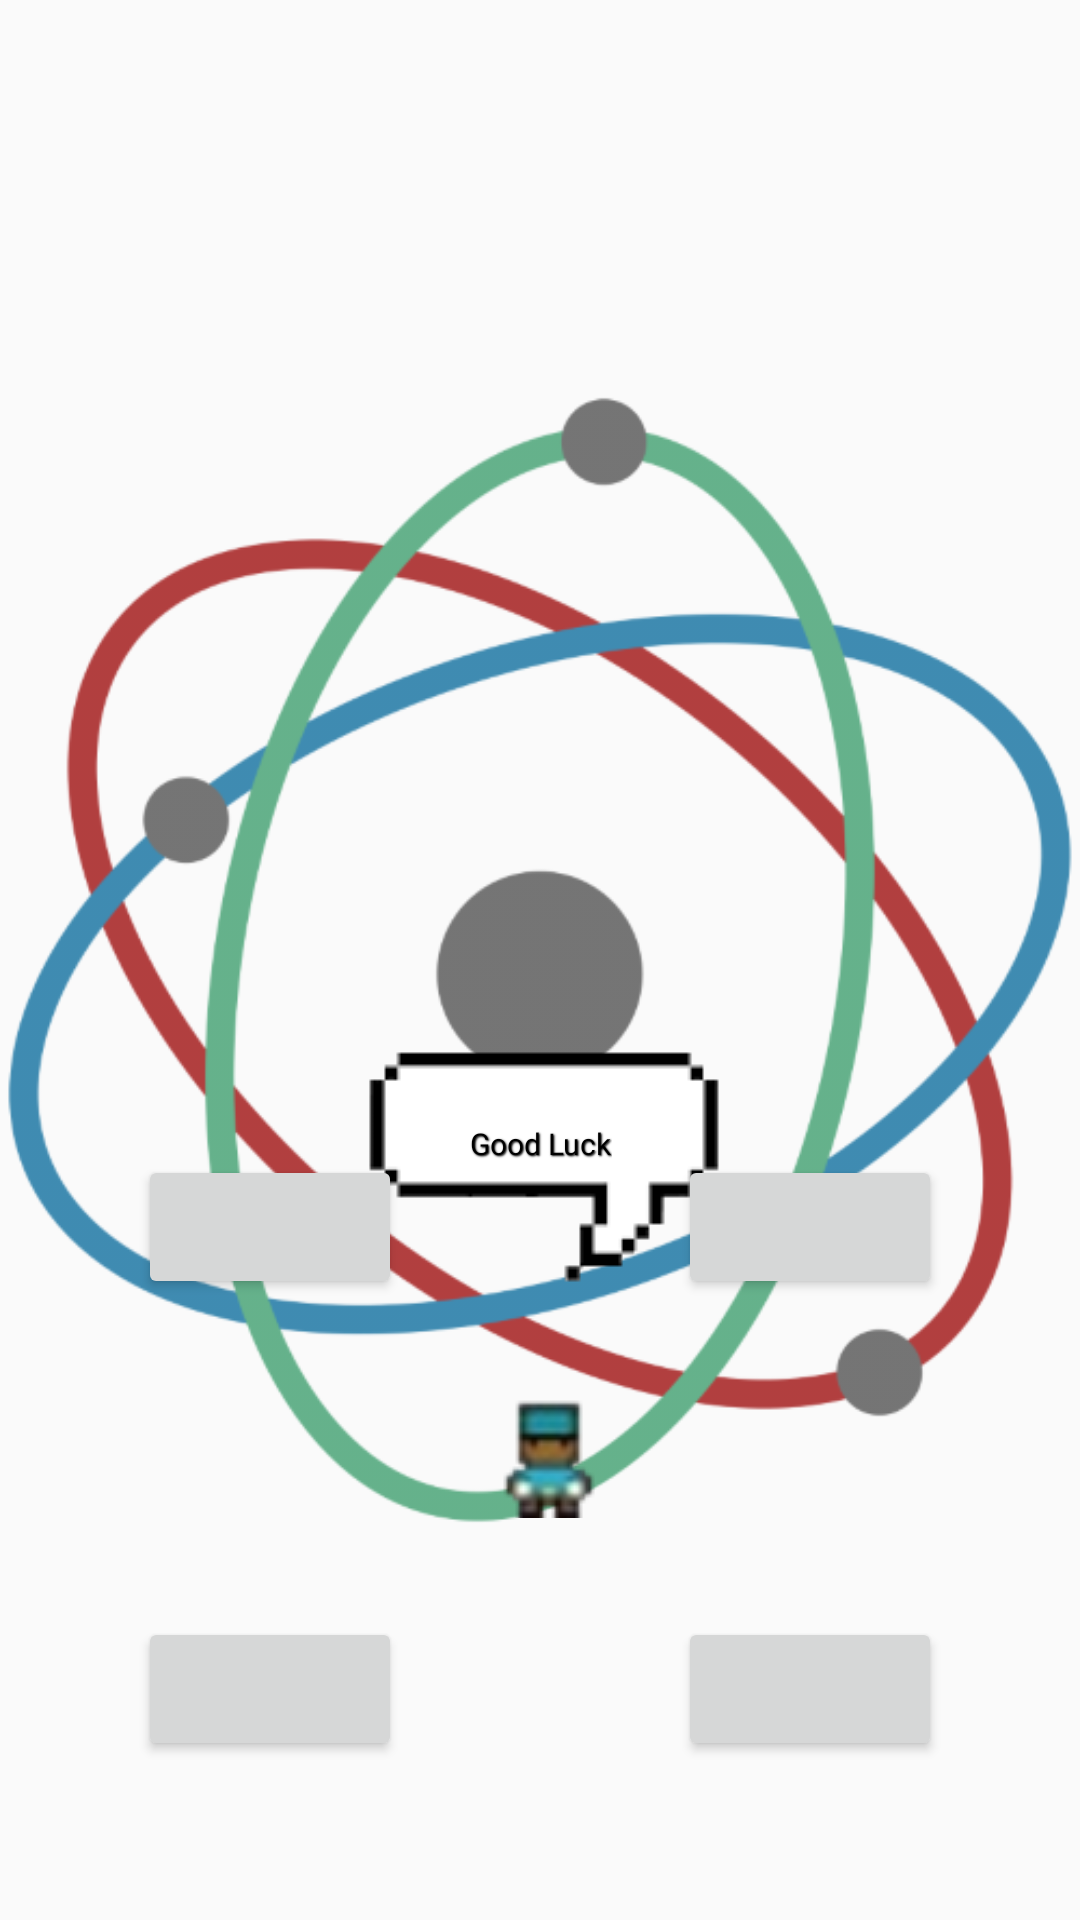

Where to tap for icons on this 1080px x 1920px app screen, as point (x, y):
labtechstationary: point (540, 1459)
